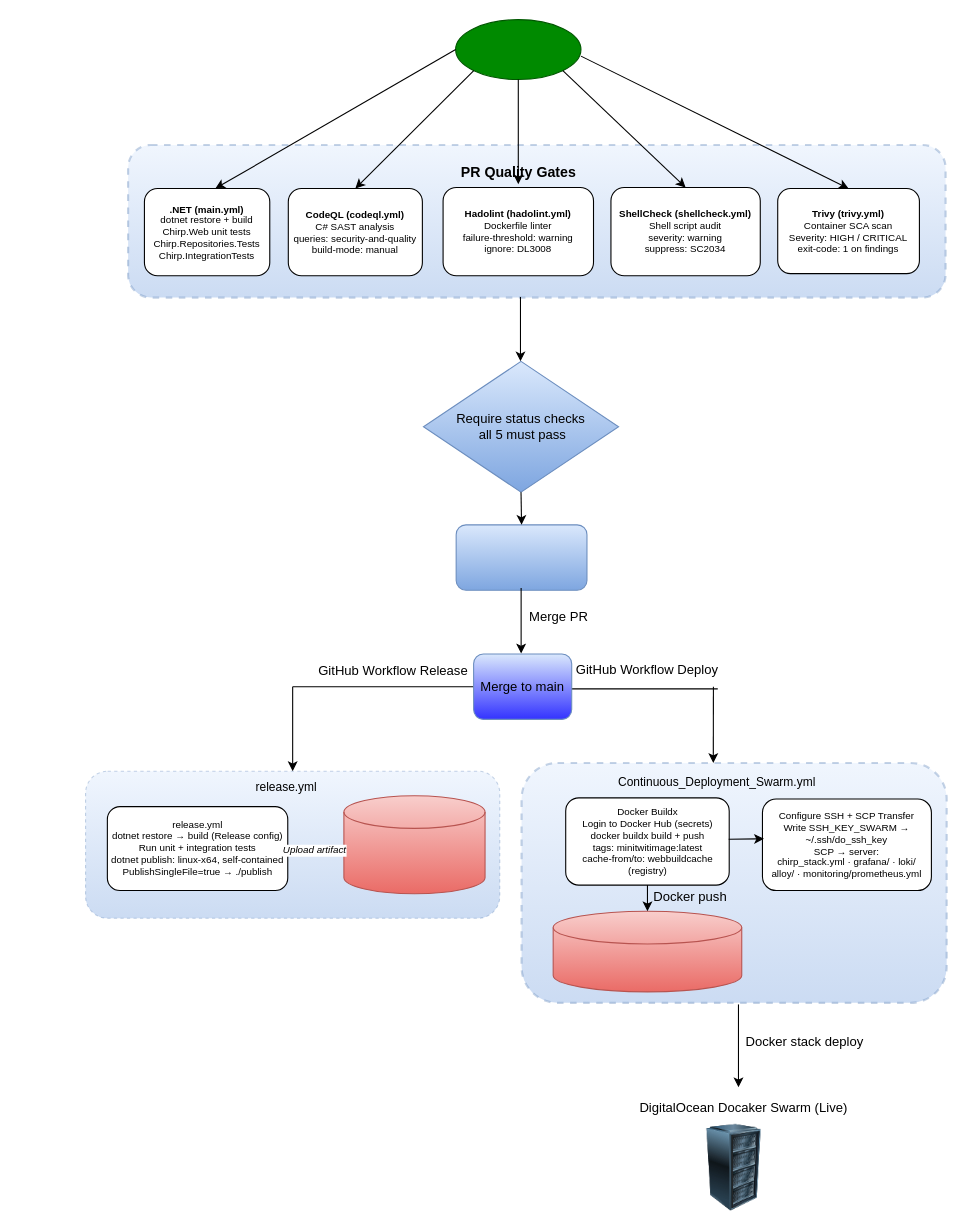
The diagram is 976 pixels wide and 1230 high, and some of its shapes have lost their labels. Each missing label, with the box of its shape:
Developer: (455, 19, 581, 80)
Developer reviews and aproves PR: (455, 524, 587, 590)
Docker Hub Registry minitwitimage:latest minitwitimage:webbuildcache: (552, 910, 742, 992)
GitHub Releases vX.X Release chirp-executable (linux-x64 binary): (343, 795, 485, 894)
